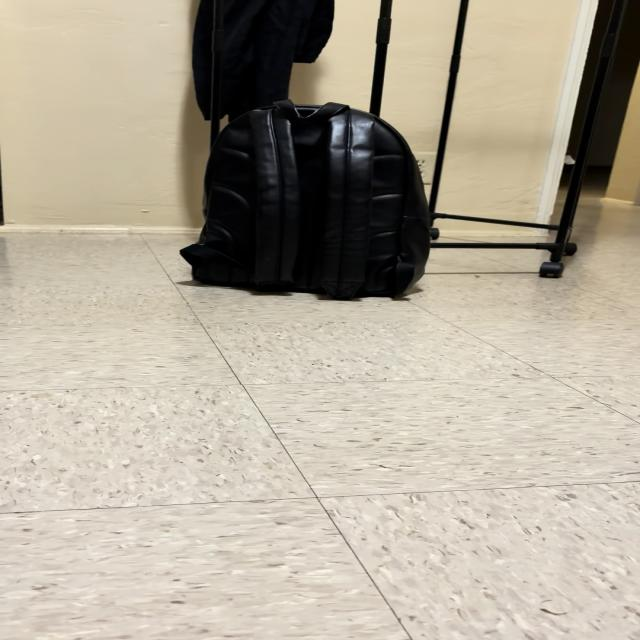backpack: (180, 101, 430, 299)
